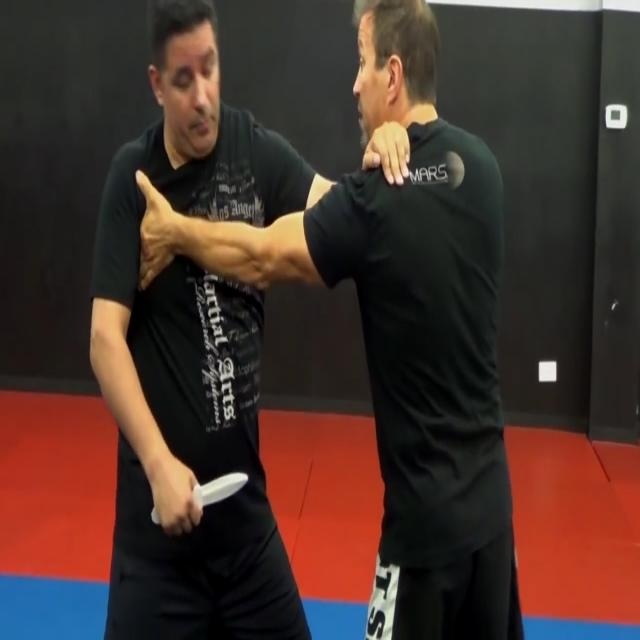knife: (193, 467, 250, 511)
